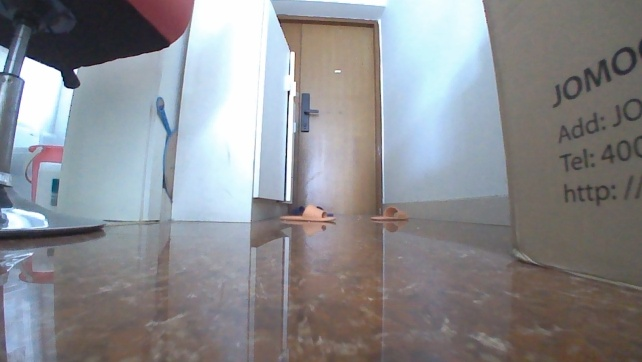chair_base: (0, 167, 111, 241)
door_anno: (282, 13, 386, 217)
slipper: (277, 203, 335, 224), (370, 205, 410, 221)
